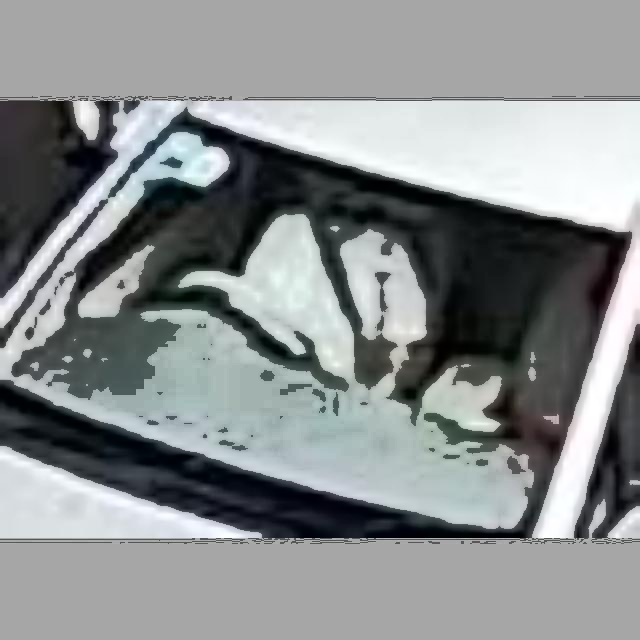pakai: (196, 186, 424, 401)
